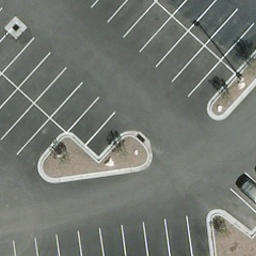car: (239, 178, 256, 214)
